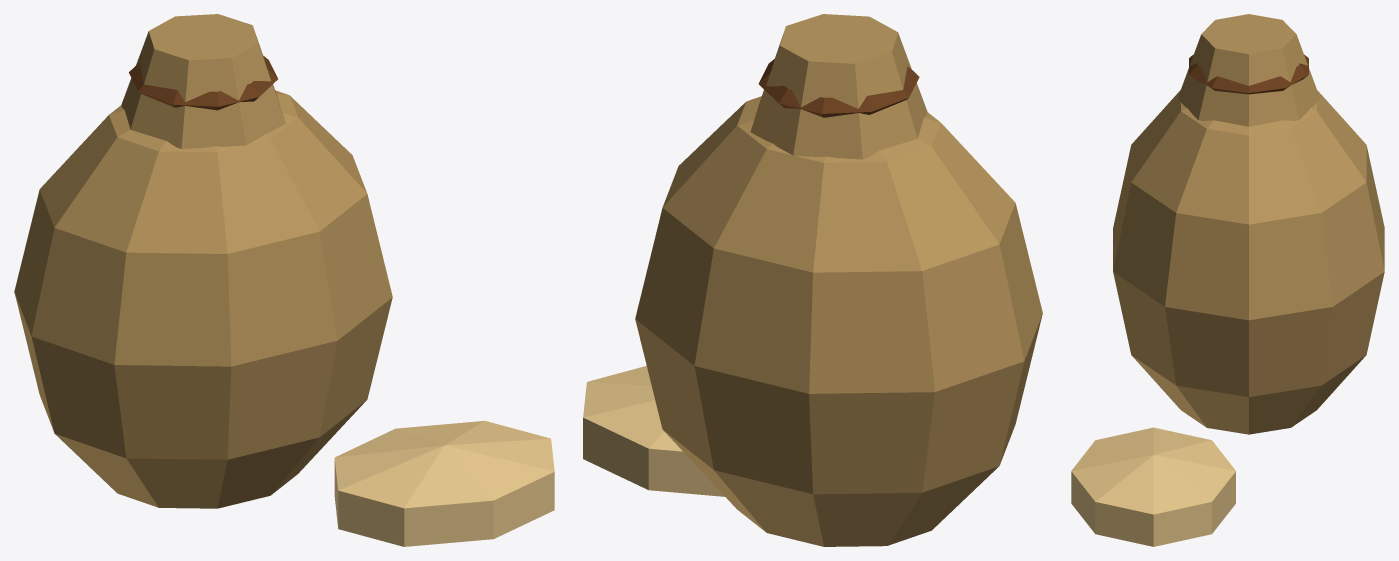
Rendered from sawdust_bag.glb.
3 views of the same model, side by side, from view 1: azimuth 30°, elevation 25°; view 2: azimuth 150°, elevation 25°; view 3: azimuth 270°, elevation 25° (orthographic). The views are drawn at different scales.
Parts seen in each view (by area): view 1: sack_burlap, pile_sawdust, neck_burlap, tie_tie_string; view 2: sack_burlap, neck_burlap, pile_sawdust, tie_tie_string; view 3: sack_burlap, pile_sawdust, neck_burlap, tie_tie_string.
Part boxes in pixels (x1=…): sack_burlap: x1=14, y1=90, x2=392, y2=508; pile_sawdust: x1=334, y1=421, x2=554, y2=546; neck_burlap: x1=121, y1=14, x2=285, y2=148; tie_tie_string: x1=129, y1=56, x2=277, y2=110; sack_burlap: x1=635, y1=96, x2=1042, y2=546; neck_burlap: x1=750, y1=14, x2=927, y2=159; pile_sawdust: x1=583, y1=366, x2=724, y2=496; tie_tie_string: x1=758, y1=59, x2=919, y2=117; sack_burlap: x1=1113, y1=90, x2=1384, y2=434; pile_sawdust: x1=1071, y1=427, x2=1235, y2=546; neck_burlap: x1=1177, y1=14, x2=1320, y2=126; tie_tie_string: x1=1189, y1=54, x2=1308, y2=94.
Bounding box in the file's own units: 0.3766 × 0.38 × 0.2634.
